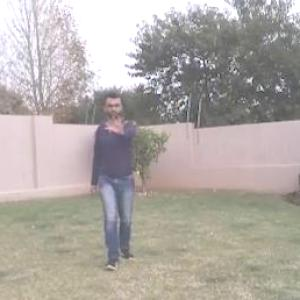follow_hand: (102, 109, 128, 135)
